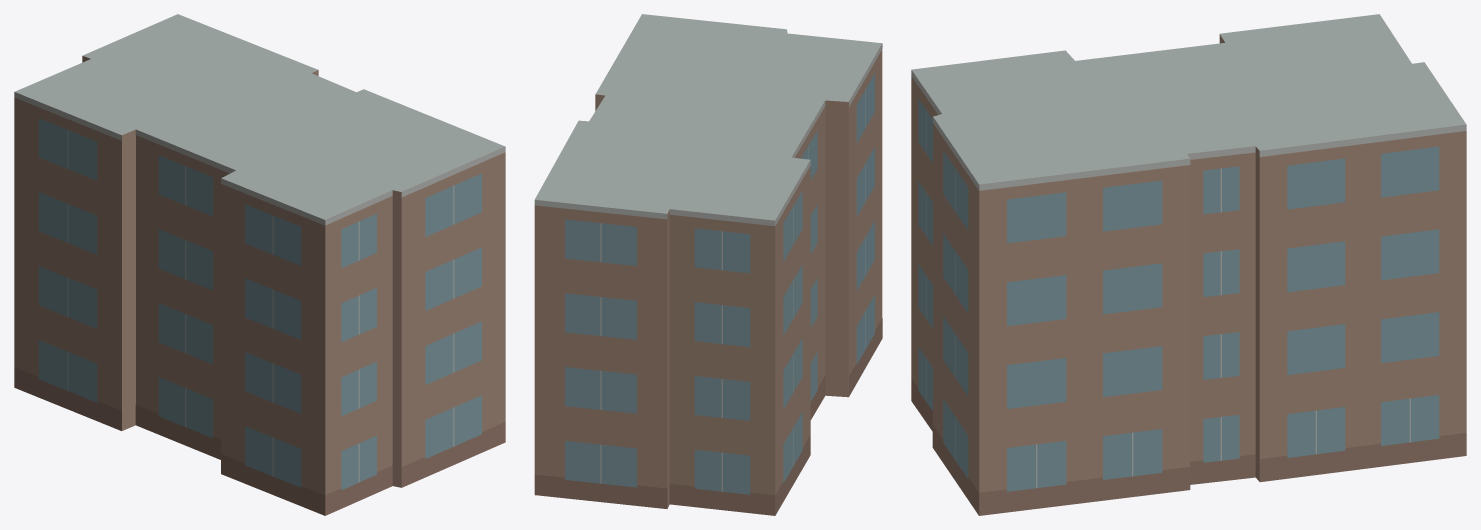
File: survey-upis-32711330.glb
3 views of the same model, side by side, from view 1: azimuth 30°, elevation 25°; view 2: azimuth 150°, elevation 25°; view 3: azimuth 270°, elevation 25° (orthographic). The views are drawn at different scales.
Visible parts, largest first — view 1: survey-upis-32711330.tmp; view 2: survey-upis-32711330.tmp; view 3: survey-upis-32711330.tmp.
Boxes of the visible parts, left/top/right/bottom form: survey-upis-32711330.tmp: left=14, top=14, right=505, bottom=515; survey-upis-32711330.tmp: left=534, top=14, right=882, bottom=515; survey-upis-32711330.tmp: left=911, top=14, right=1466, bottom=515.
Size of the model in its own units: 14.26 by 12.9 by 19.61.
